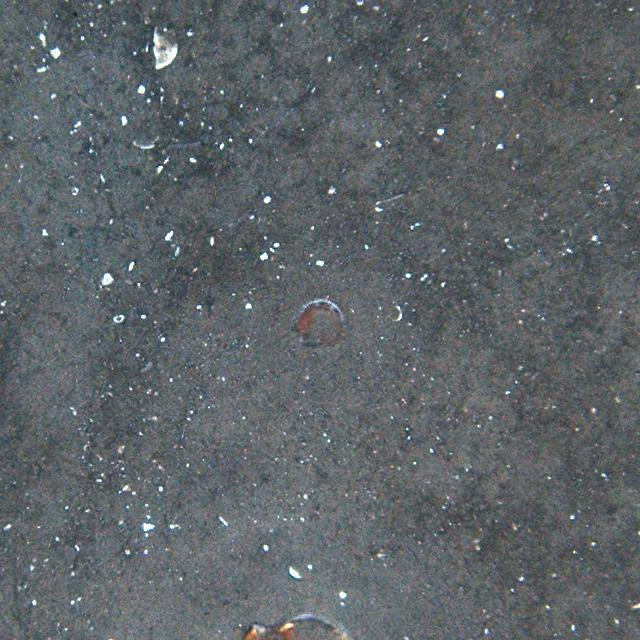scallop: (290, 294, 350, 352)
